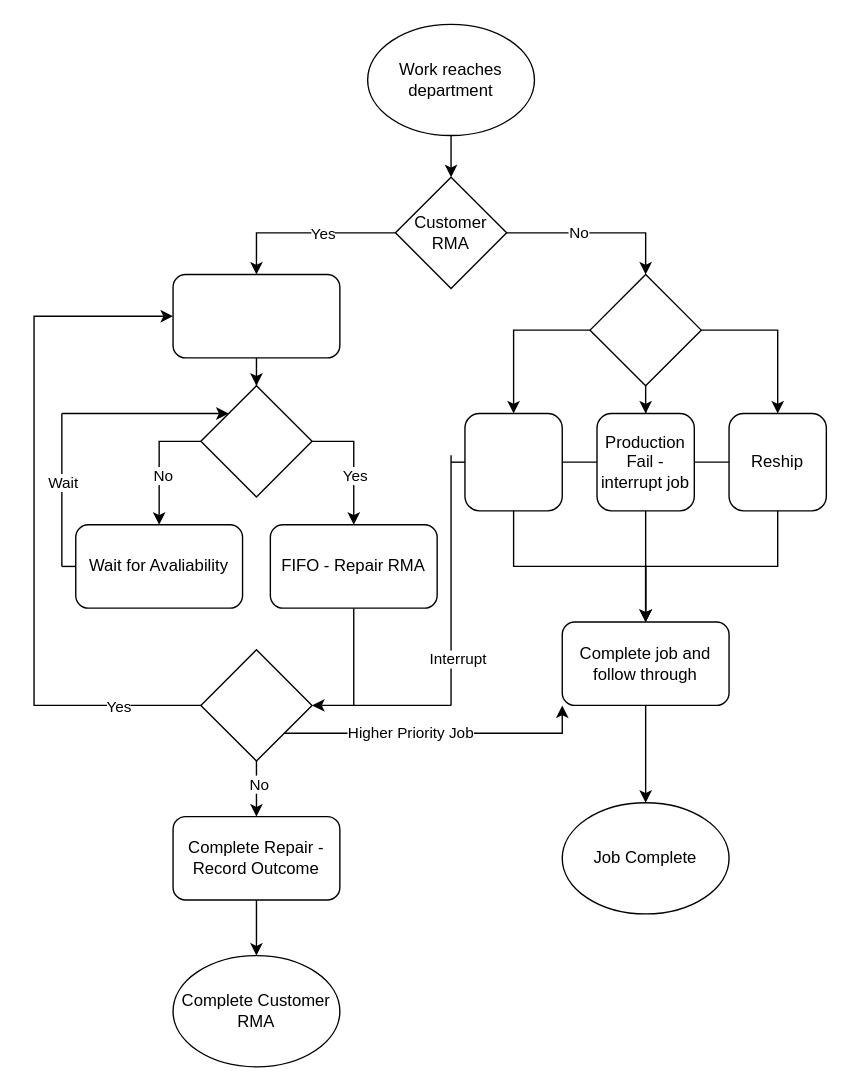
The diagram is 851 pixels wide and 1091 high, and some of its shapes have lost their labels. Here are the shapes that lost their labels. From the top down, the box of each, then its label:
(172, 273, 340, 358): Place on RMA rack
(589, 273, 701, 386): Job Type
(199, 384, 312, 497): Tech/station avaliable
(464, 412, 562, 511): AdvEx - interrupt job
(199, 648, 312, 761): Repair interrupted
